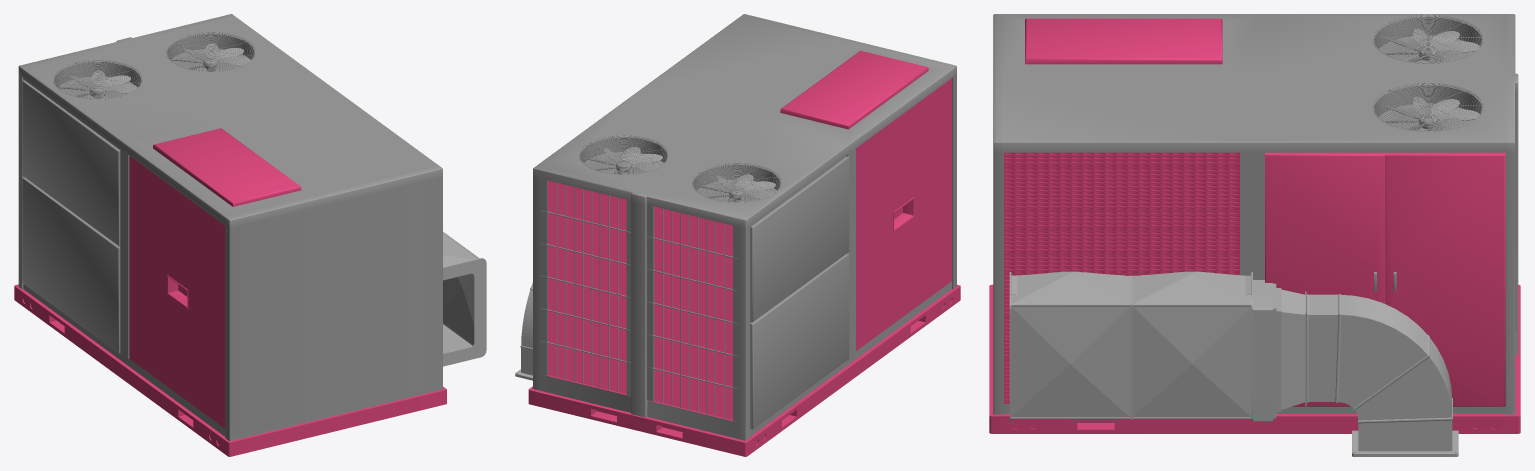
Rendered from hvac.fbx.
3 views of the same model, side by side, from view 1: azimuth 30°, elevation 25°; view 2: azimuth 150°, elevation 25°; view 3: azimuth 270°, elevation 25° (orthographic). The views are drawn at different scales.
Parts seen in each view (by area): view 1: hvac, duct2; view 2: hvac, duct; view 3: hvac, duct2, duct.
Part boxes in pixels (box(x1,y1,x2,y2)): hvac: box(14, 14, 446, 456); duct2: box(443, 231, 486, 366); hvac: box(528, 14, 960, 456); duct: box(515, 282, 532, 380); hvac: box(989, 14, 1520, 433); duct2: box(1009, 271, 1252, 421); duct: box(1253, 280, 1458, 456).
Size of the model in its own units: 1.51 by 1.3 by 2.11.
